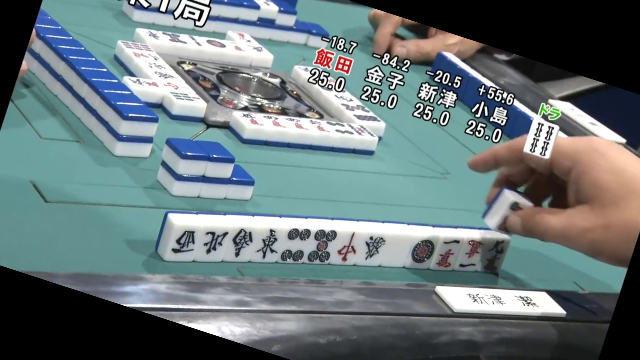Tehai: (154, 203, 514, 282)
